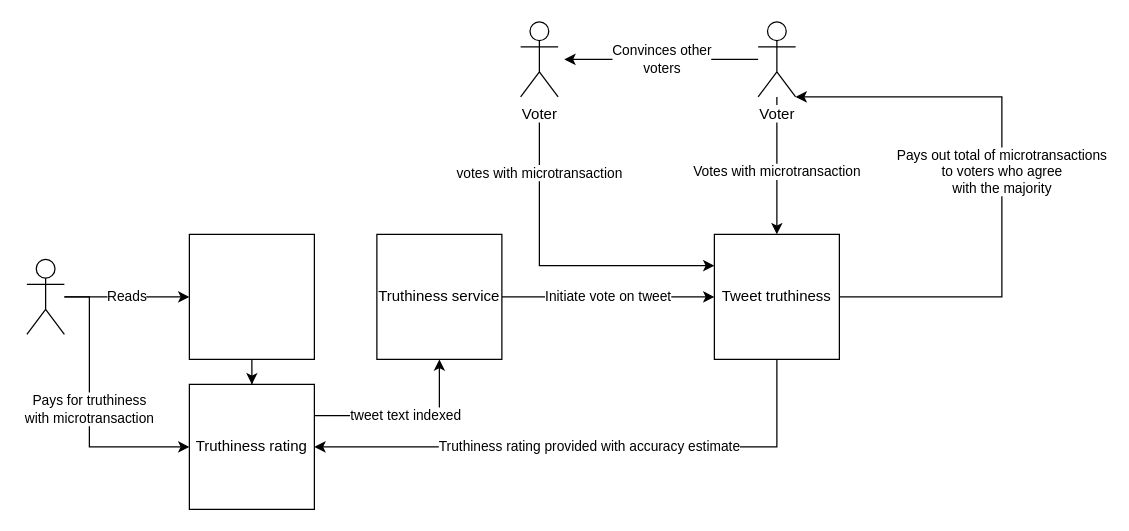
Image size: 1129x531. Some labels were removed from this diagram. Here are the shapes that lost their labels. From the top down, the centre of each, then its label:
At pixel 45 296: "Reader".
At pixel 251 296: "Tweet".
